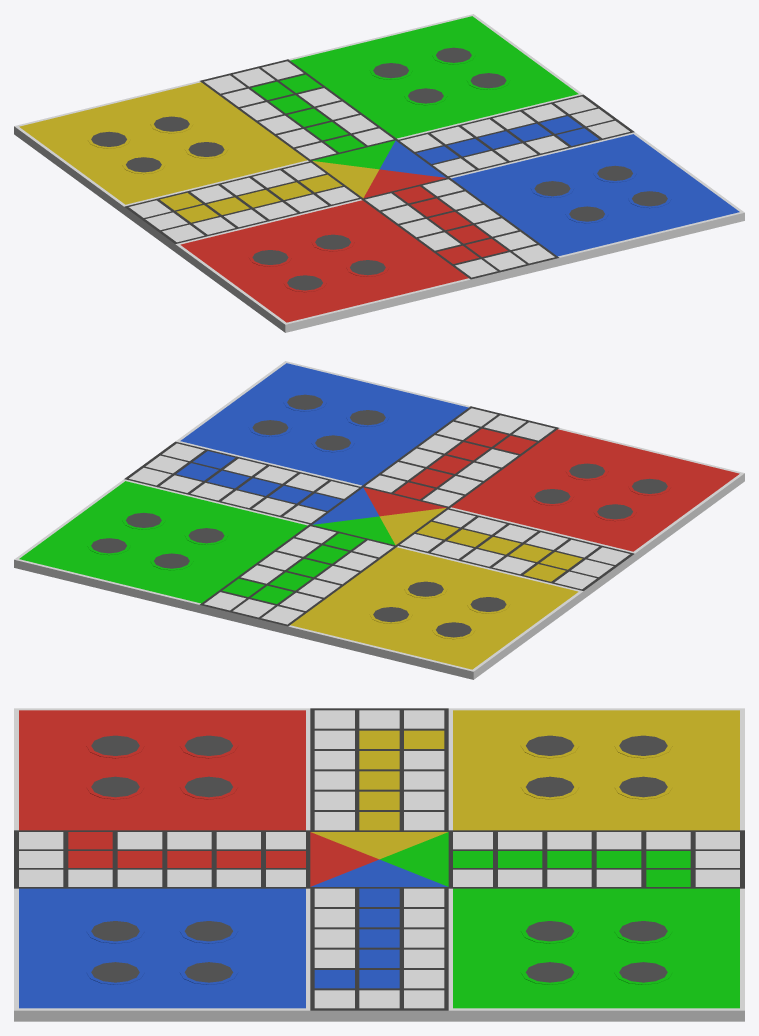
File: Ludo Board.fbx
3 views of the same model, one above another, from view 1: azimuth 30°, elevation 25°; view 2: azimuth 150°, elevation 25°; view 3: azimuth 270°, elevation 25° (orthographic). The views are drawn at different scales.
Visible parts, largest first — view 1: Ludo Board; view 2: Ludo Board; view 3: Ludo Board.
Part boxes in pixels (<box>): Ludo Board: <box>14,14,744,332</box>; Ludo Board: <box>14,361,744,679</box>; Ludo Board: <box>14,708,744,1021</box>.
Size of the model in its own units: 352 by 6.21 by 360.
